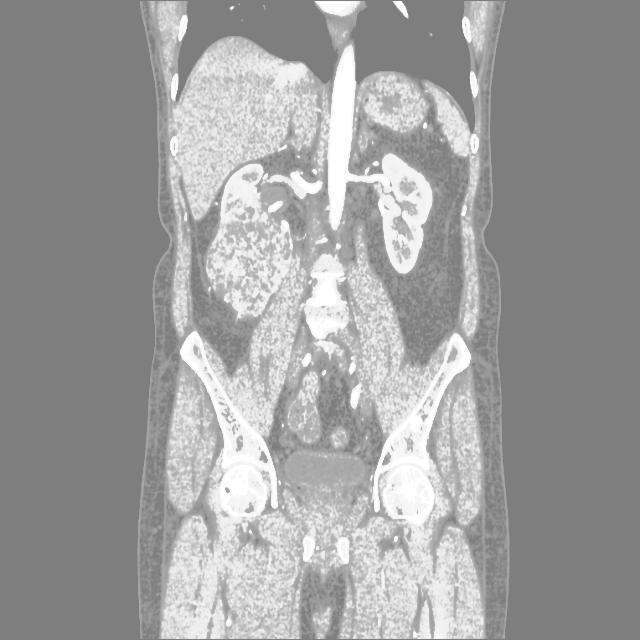TUMOR: (143, 143, 490, 306)
